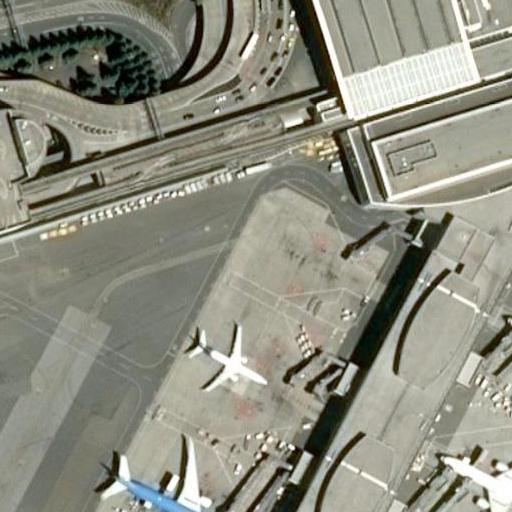Aircraft: (89, 431, 239, 512), (182, 316, 264, 394), (432, 436, 512, 512), (501, 301, 512, 424)
